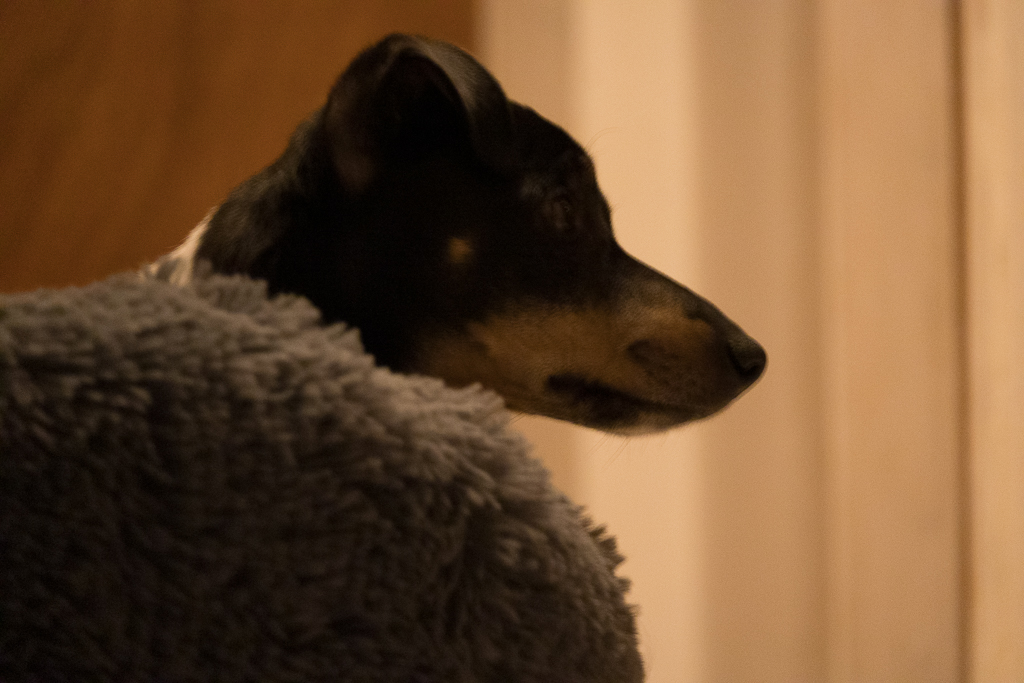Dog: (91, 20, 786, 454)
